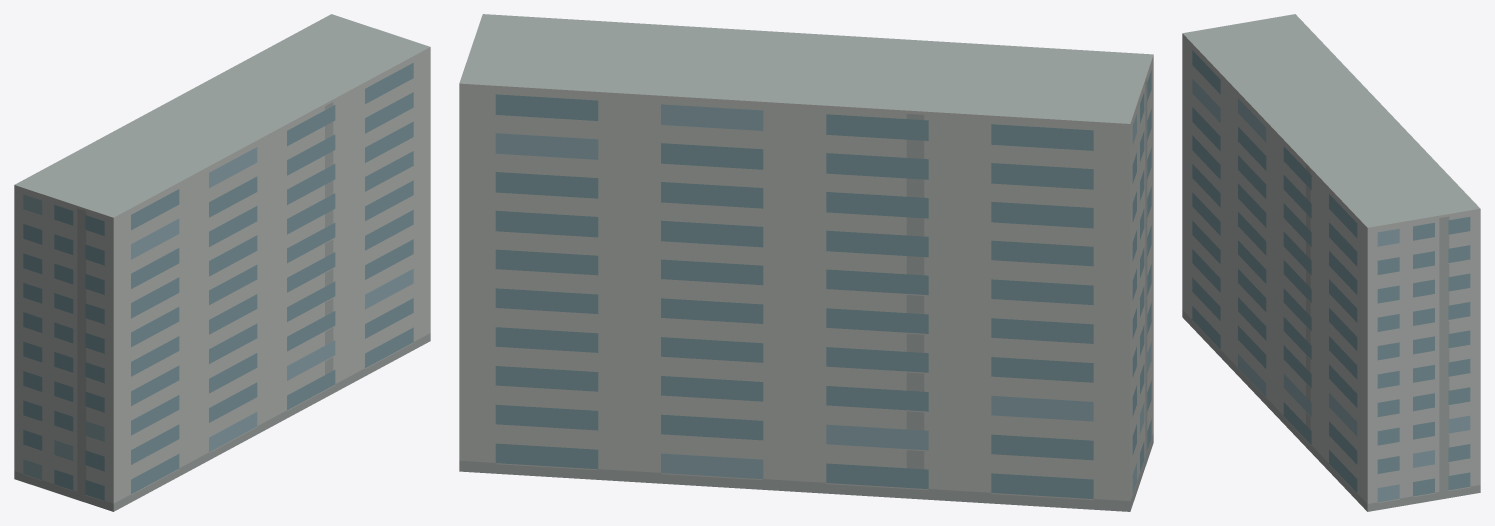
Rendered from residential-ff97096e-e8fe-4498-9d73-f10e2e55cb28.glb.
3 renders of one model, left to right at view 1: azimuth 30°, elevation 25°; view 2: azimuth 150°, elevation 25°; view 3: azimuth 270°, elevation 25°, orthographic. The views are drawn at different scales.
Parts seen in each view (by area): view 1: residential-ff97096e-e8fe-4498-9d73-f10e2e55cb28.tmp; view 2: residential-ff97096e-e8fe-4498-9d73-f10e2e55cb28.tmp; view 3: residential-ff97096e-e8fe-4498-9d73-f10e2e55cb28.tmp.
Part boxes in pixels (box(x1,y1,x2,y2)): residential-ff97096e-e8fe-4498-9d73-f10e2e55cb28.tmp: box(14, 14, 430, 511); residential-ff97096e-e8fe-4498-9d73-f10e2e55cb28.tmp: box(459, 14, 1153, 511); residential-ff97096e-e8fe-4498-9d73-f10e2e55cb28.tmp: box(1182, 14, 1480, 511).
Size of the model in its own units: 46.82 by 29 by 27.58.
